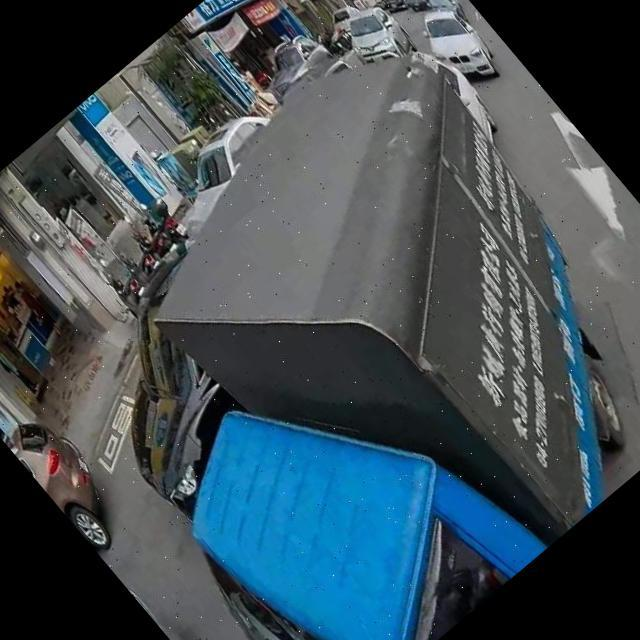person: (11, 283, 66, 345), (0, 328, 46, 401)
